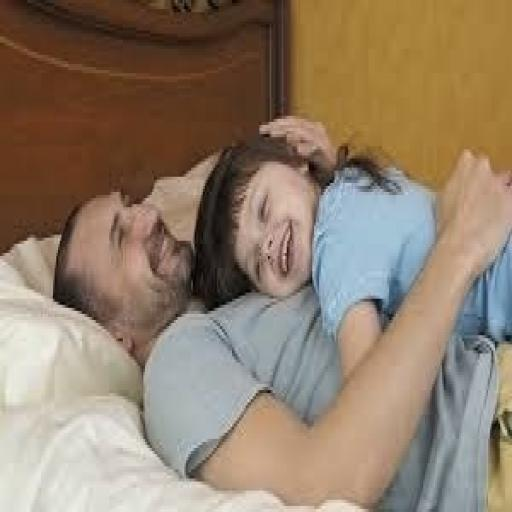hugging: (50, 110, 510, 509)
